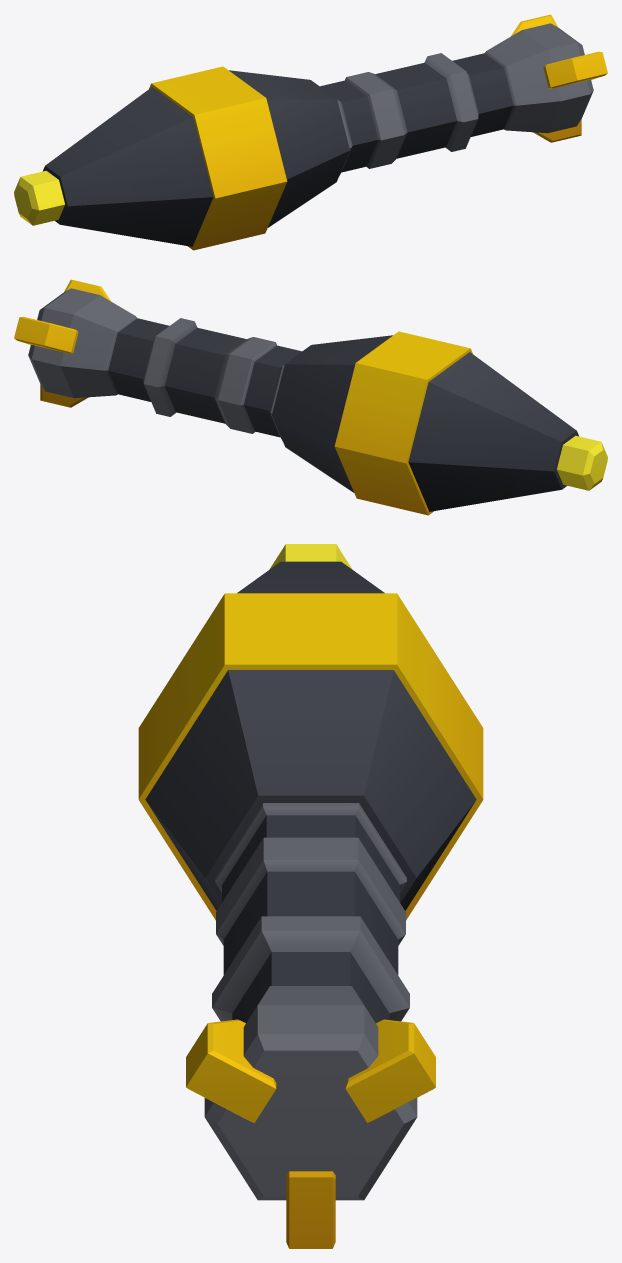
Rendered from Missile.fbx.
3 renders of one model, top to bottom at view 1: azimuth 30°, elevation 25°; view 2: azimuth 150°, elevation 25°; view 3: azimuth 270°, elevation 25°, orthographic. The views are drawn at different scales.
Visible parts, largest first — view 1: Missile; view 2: Missile; view 3: Missile.
Part boxes in pixels (x1,y1,x2,y2): Missile: [14, 14, 607, 250]; Missile: [14, 279, 607, 515]; Missile: [138, 544, 483, 1248].
Size of the model in its own units: 0.00952 by 0.00223 by 0.00257.
1 material, 1 textured.
